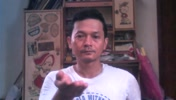hand: (31, 19, 90, 74)
